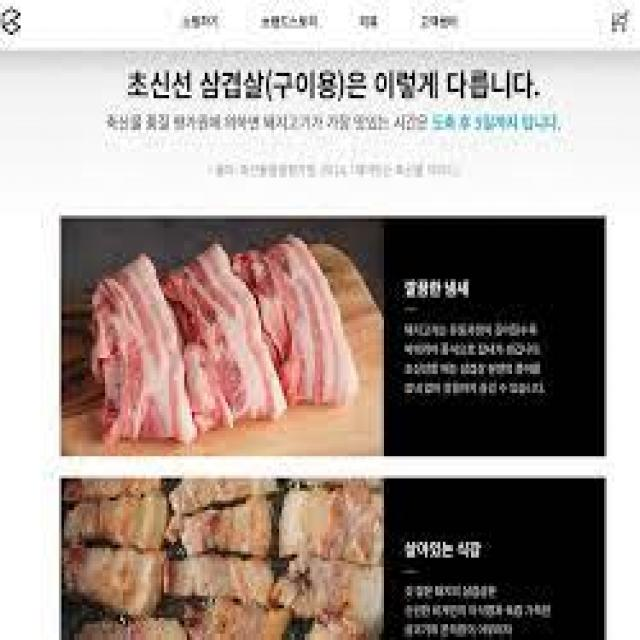Pork: (164, 244, 287, 432), (92, 257, 197, 445), (264, 238, 358, 406)
